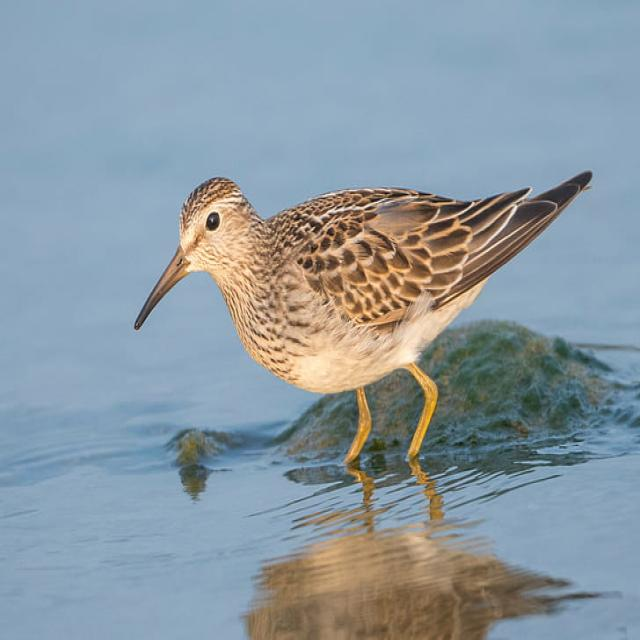Sandpiper: (130, 178, 582, 492)
